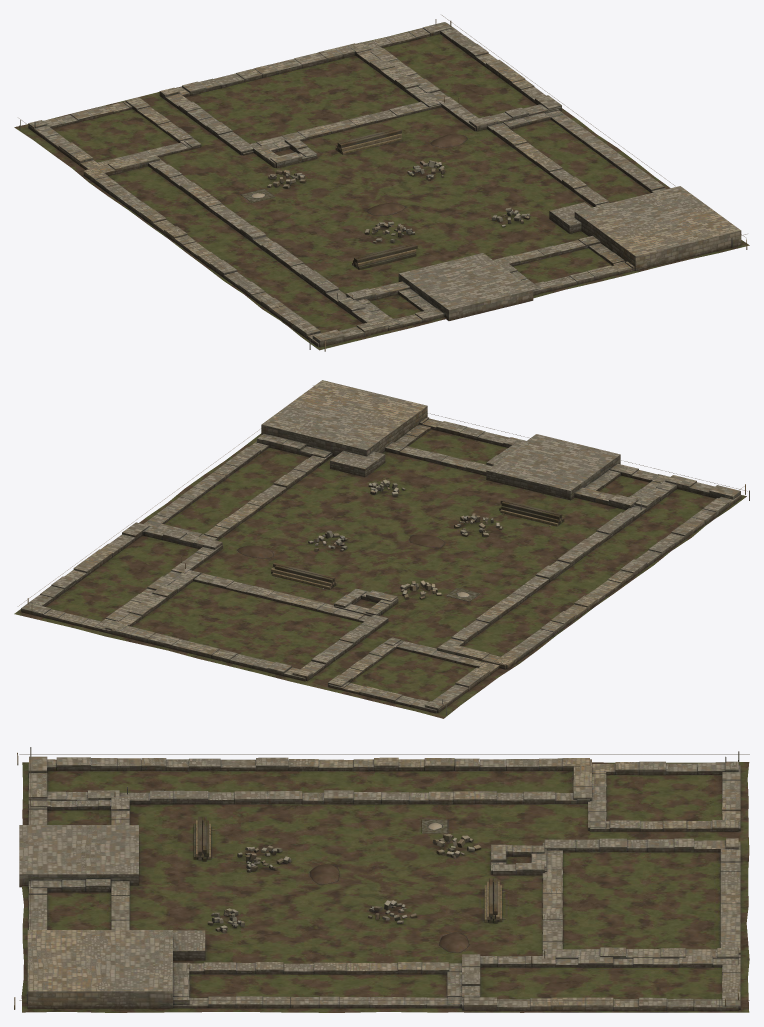
File: palace_build1.glb
3 views of the same model, one above another, from view 1: azimuth 30°, elevation 25°; view 2: azimuth 150°, elevation 25°; view 3: azimuth 270°, elevation 25° (orthographic). The views are drawn at different scales.
Parts seen in each view (by area): view 1: palace_build1_LOD0; view 2: palace_build1_LOD0; view 3: palace_build1_LOD0.
Boxes of the visible parts, x1,y1,x2,y2 form: palace_build1_LOD0: (14,15,749,351); palace_build1_LOD0: (14,380,749,718); palace_build1_LOD0: (14,747,749,1012).
Size of what is drawn, in the model's own units: 37.33 by 1.3 by 45.54.
Materials: 1 (1 with a texture image).
